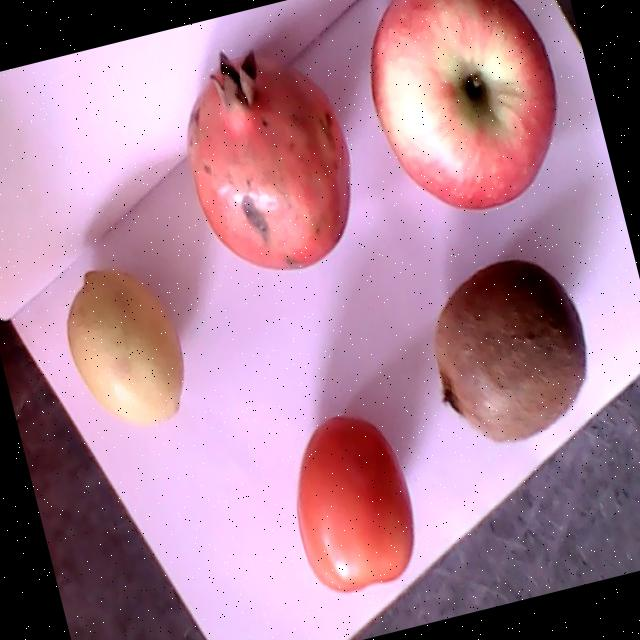apple: (369, 0, 556, 208)
kiwi: (433, 257, 585, 442)
lemon: (66, 268, 182, 429)
pomegranate: (184, 45, 350, 270)
tomato: (296, 413, 412, 591)
